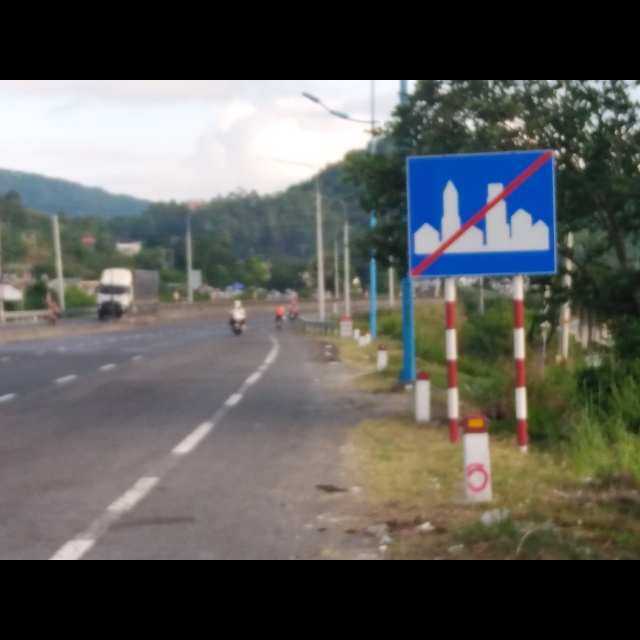Hết khu đông dân cư: (405, 145, 559, 276)
